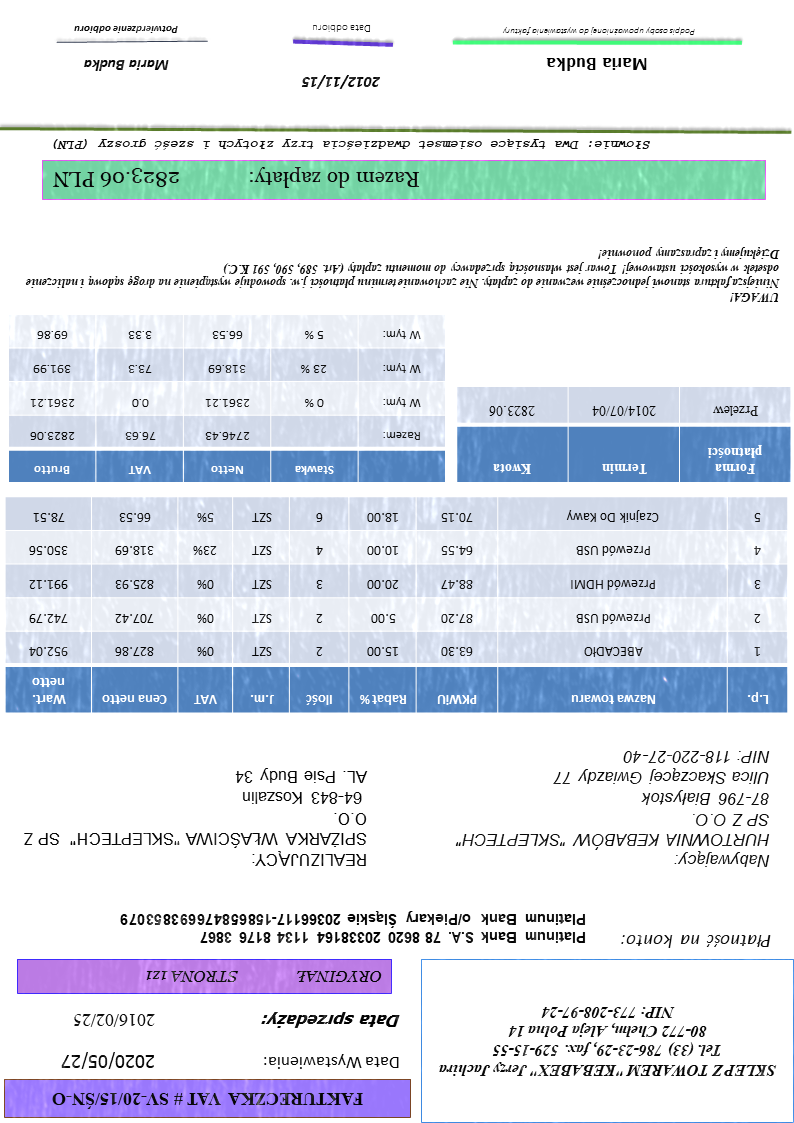Table: (4, 493, 790, 716), (7, 312, 449, 485), (454, 385, 792, 485)
TextBox: (24, 244, 782, 308), (452, 748, 772, 872), (20, 768, 371, 870), (438, 999, 780, 1083), (115, 907, 588, 948), (51, 162, 425, 195), (51, 136, 656, 154), (45, 1086, 365, 1114), (143, 966, 385, 987), (621, 931, 774, 952), (261, 1053, 405, 1073), (259, 1010, 403, 1029), (498, 26, 699, 39), (58, 1049, 158, 1074), (542, 54, 652, 75), (71, 22, 181, 38), (80, 56, 173, 74), (71, 1012, 157, 1030), (298, 74, 384, 92), (307, 21, 375, 37)
